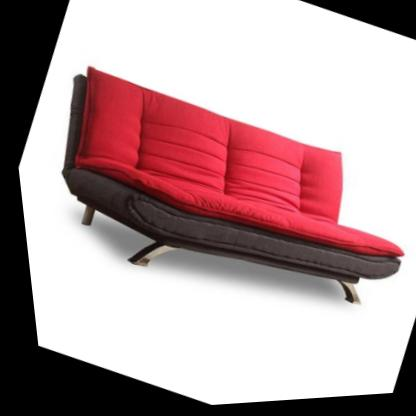Sofa: (6, 43, 416, 371)
